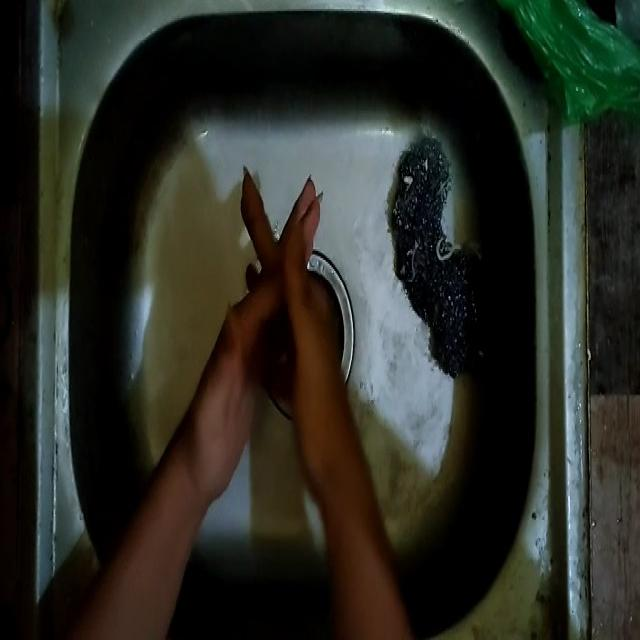step_3: (196, 150, 347, 506)
